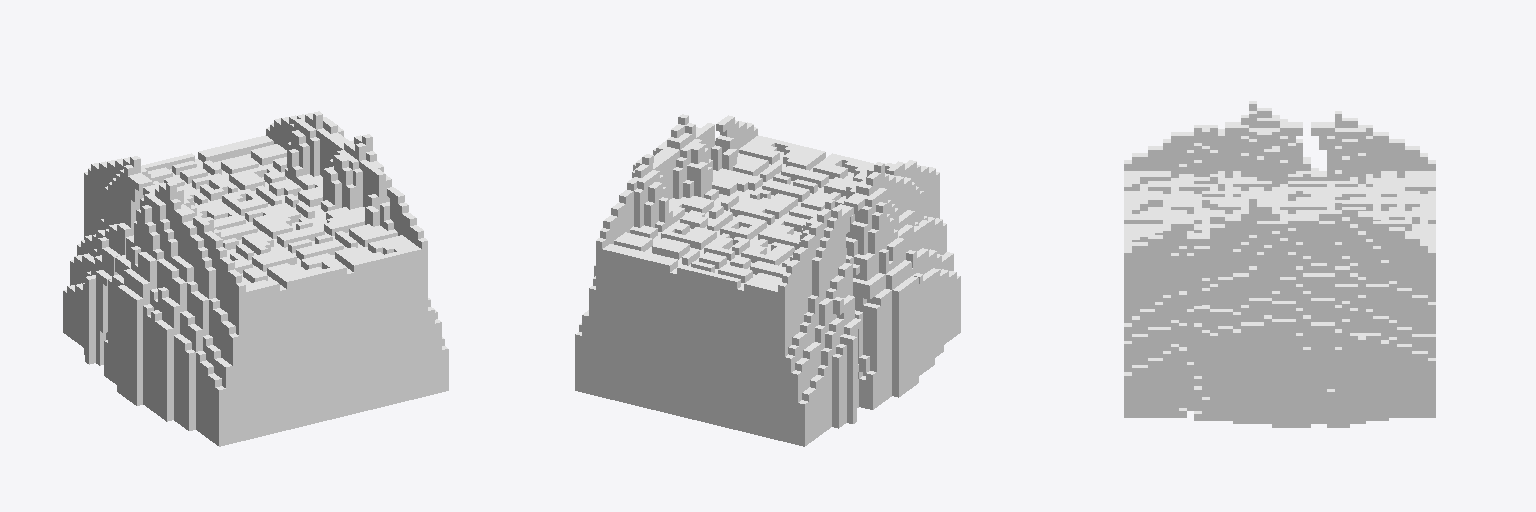
File: Straight_Magma.obj
3 views of the same model, side by side, from view 1: azimuth 30°, elevation 25°; view 2: azimuth 150°, elevation 25°; view 3: azimuth 270°, elevation 25° (orthographic).
Size of the model in its own units: 40 by 30 by 40.